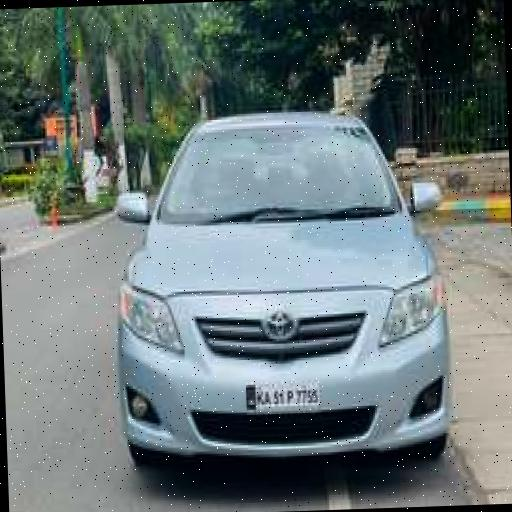license_plate`: (244, 382, 318, 404)
